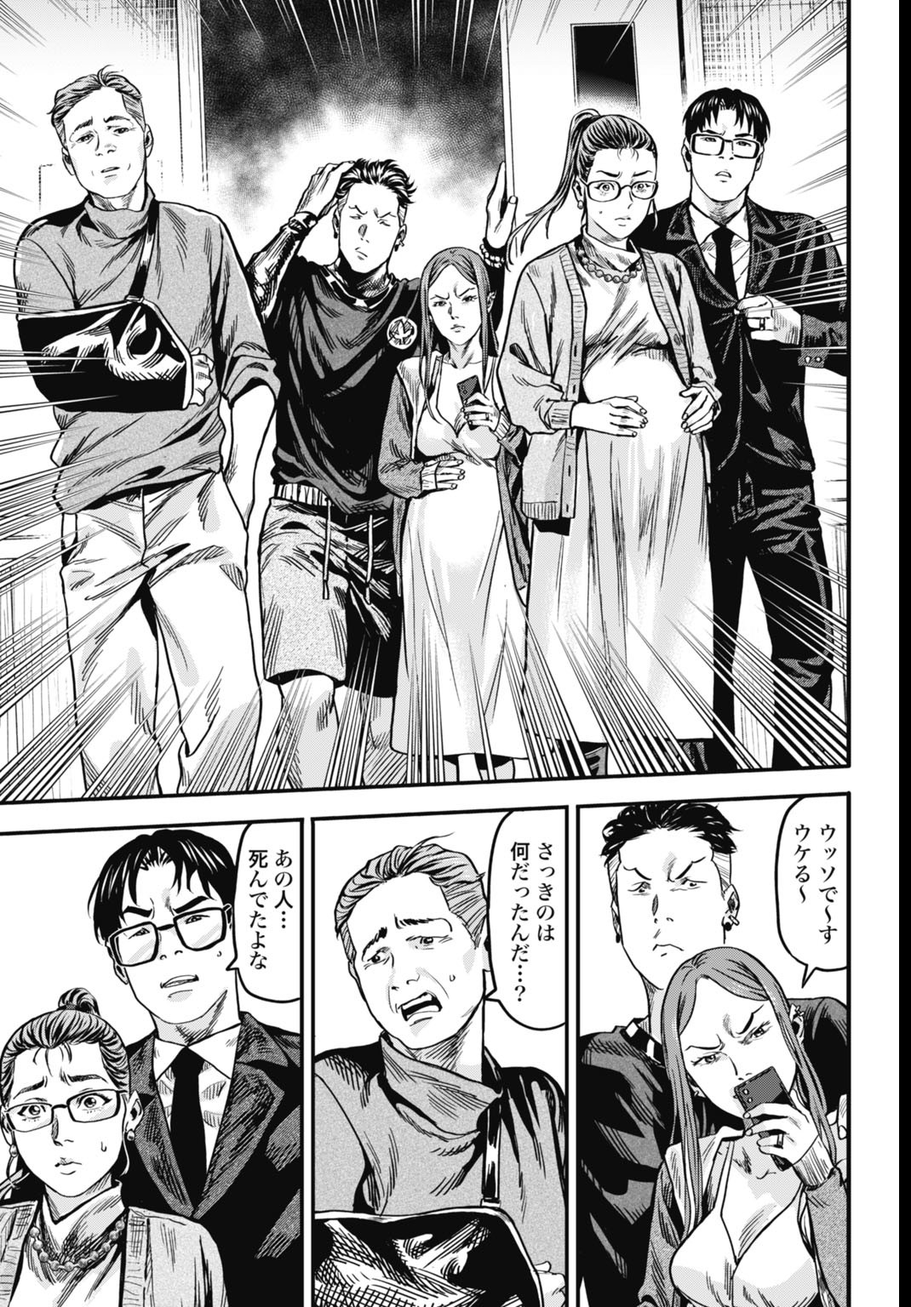bubbles: (482, 808, 567, 1043), (772, 795, 851, 994), (224, 820, 302, 1019)
